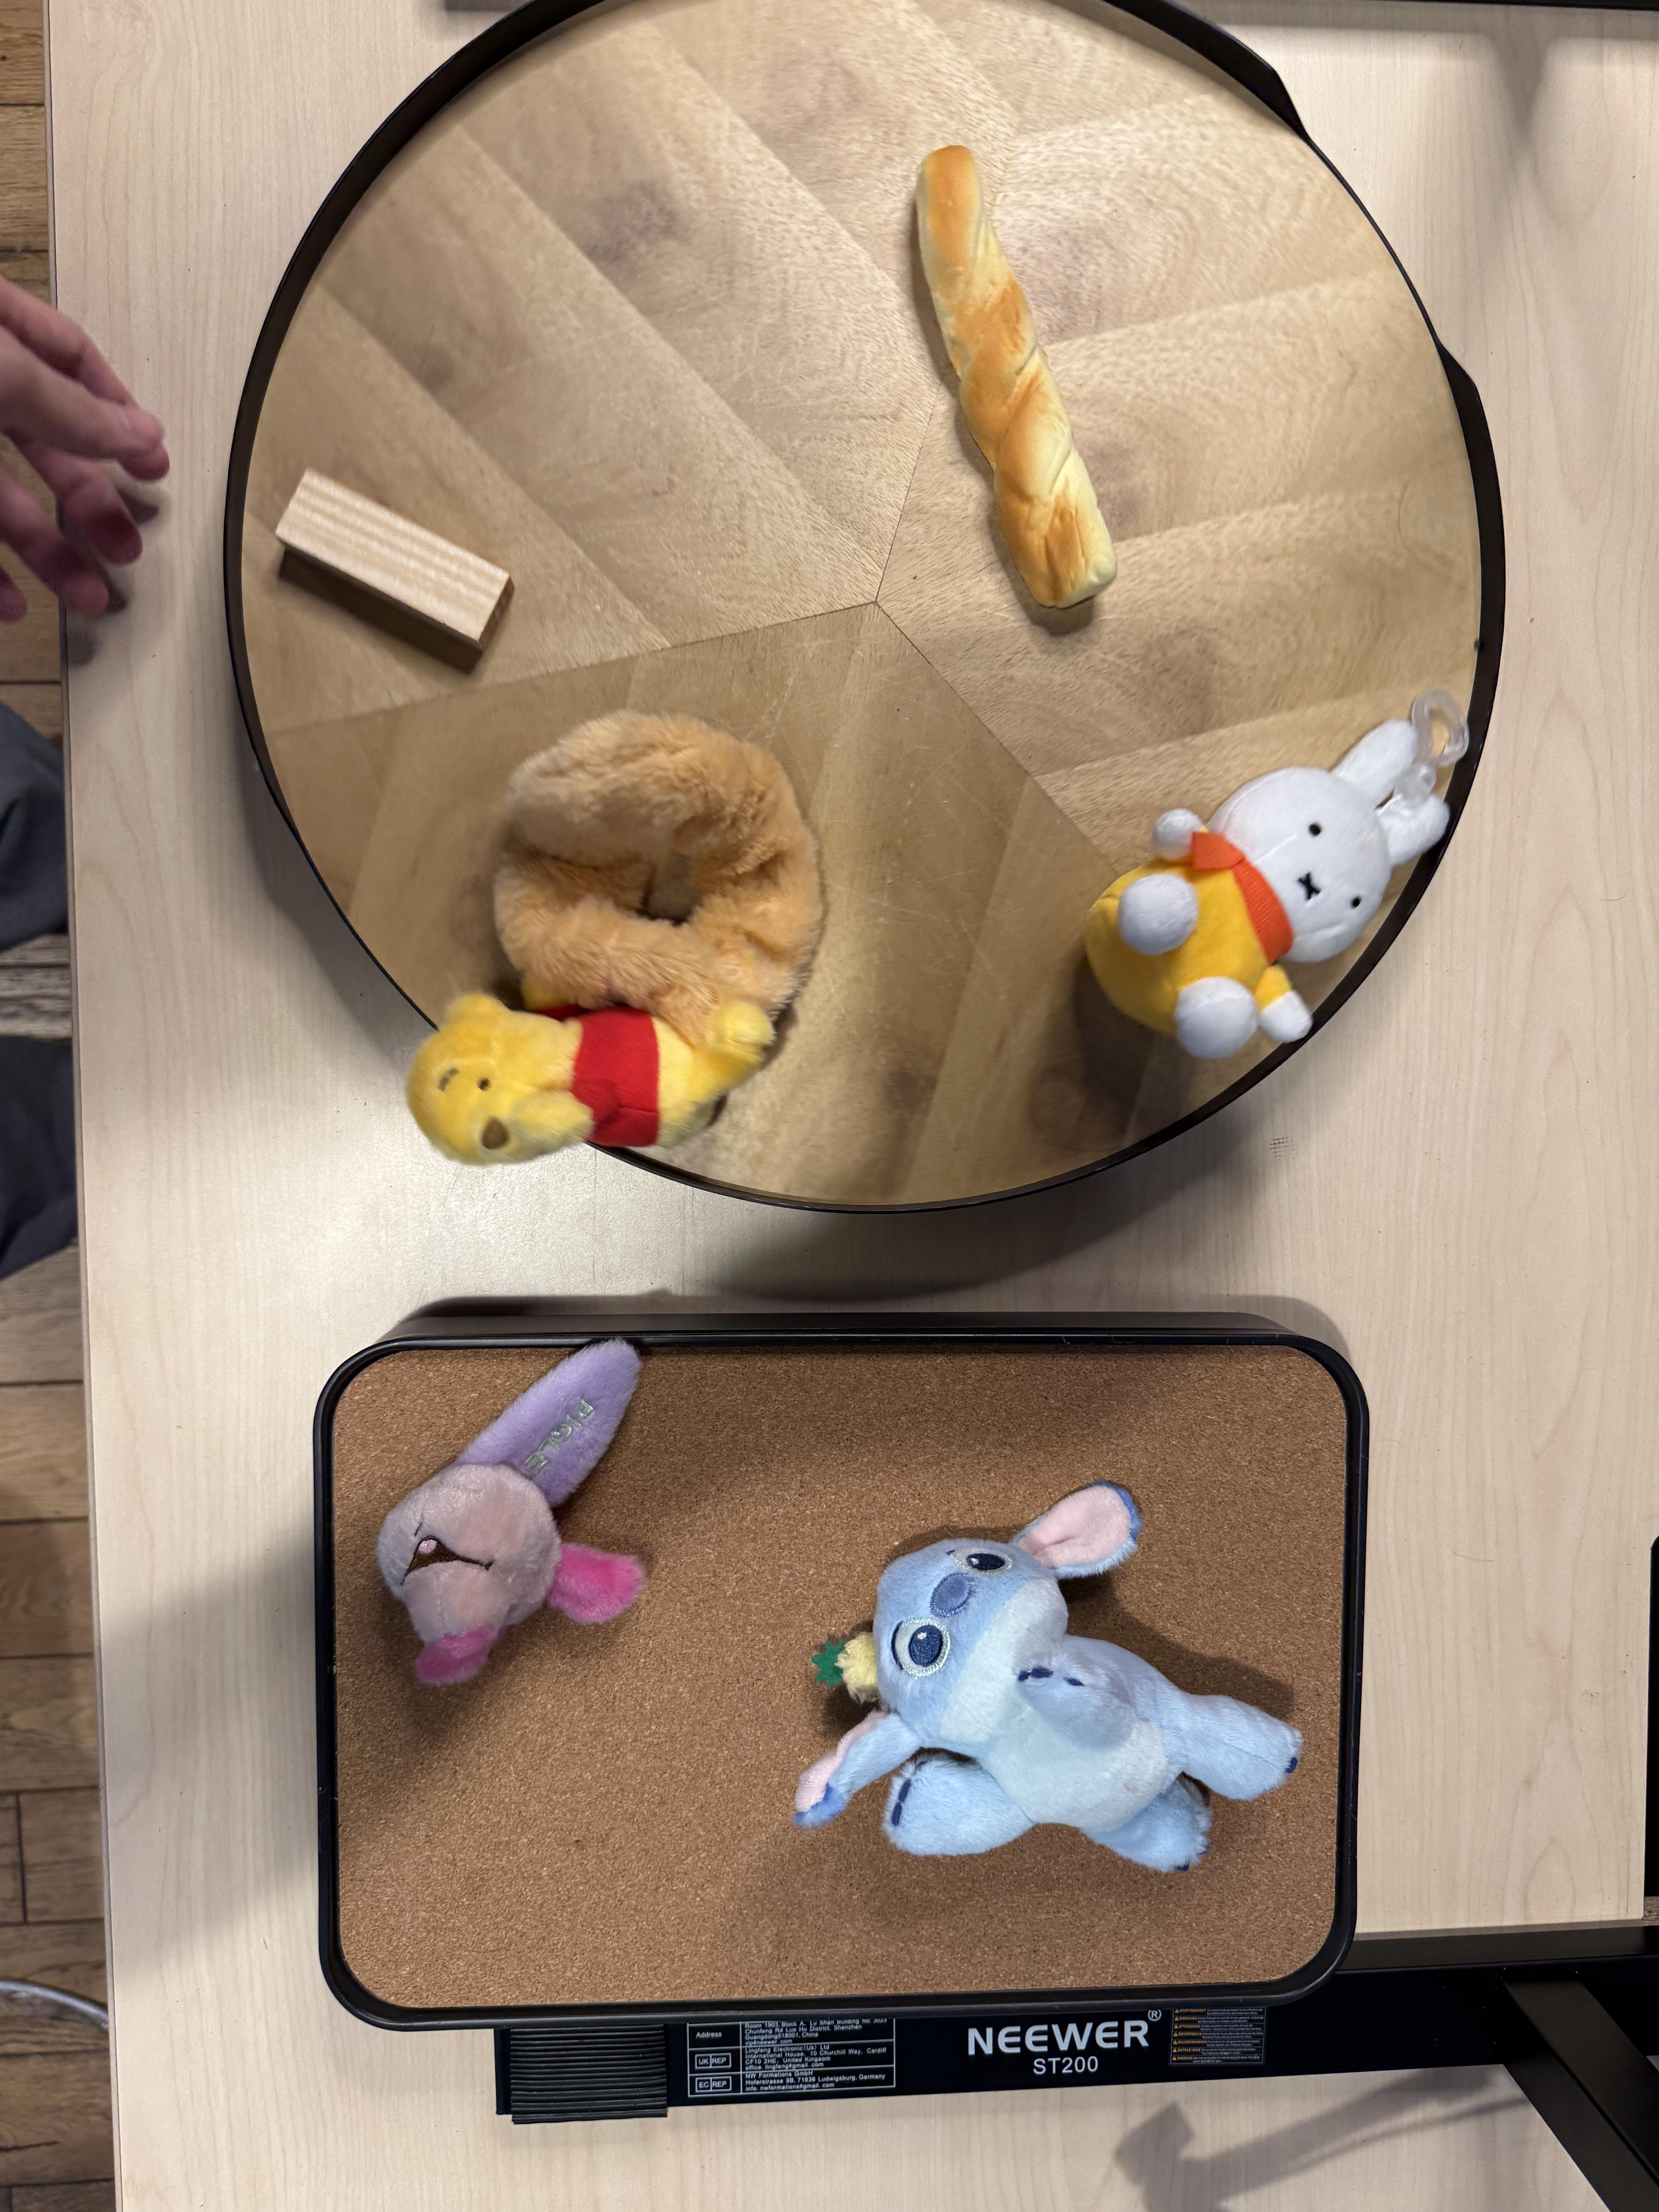block: (275, 465, 512, 667)
bread: (913, 143, 1134, 606)
doll: (786, 1484, 1307, 1876), (411, 716, 831, 1167), (1080, 716, 1457, 1057), (371, 1345, 655, 1695)
